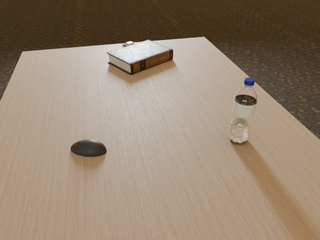book: (107, 40, 173, 75)
bottle: (228, 78, 257, 144)
mouse: (71, 139, 106, 157)
